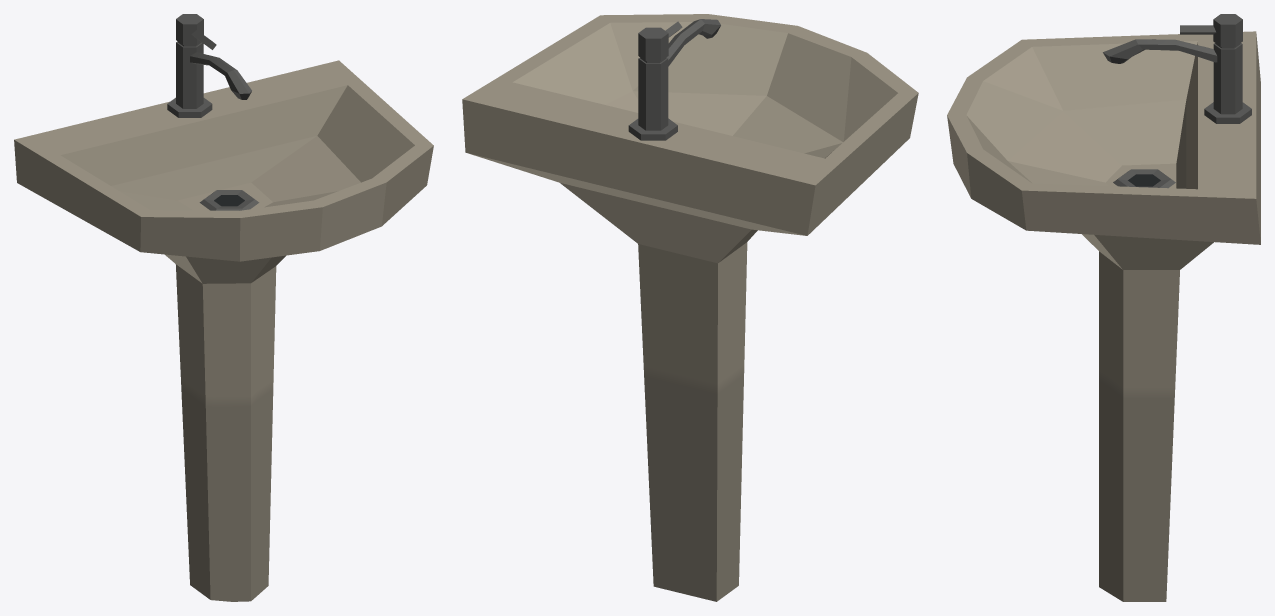
File: SM_Prop_Sink_01.glb
3 views of the same model, side by side, from view 1: azimuth 30°, elevation 25°; view 2: azimuth 150°, elevation 25°; view 3: azimuth 270°, elevation 25° (orthographic). The views are drawn at different scales.
Visible parts, largest first — view 1: SM_Prop_Sink_01; view 2: SM_Prop_Sink_01; view 3: SM_Prop_Sink_01.
Boxes of the visible parts, <box> form: SM_Prop_Sink_01: <box>14,14,433,601</box>; SM_Prop_Sink_01: <box>462,14,918,601</box>; SM_Prop_Sink_01: <box>947,14,1260,601</box>.
Size of the model in its own units: 0.7776 by 1.23 by 0.6159.
Materials: 1 (1 with a texture image).
